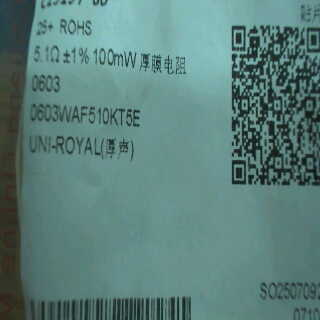5.1R: (31, 39, 62, 70)
